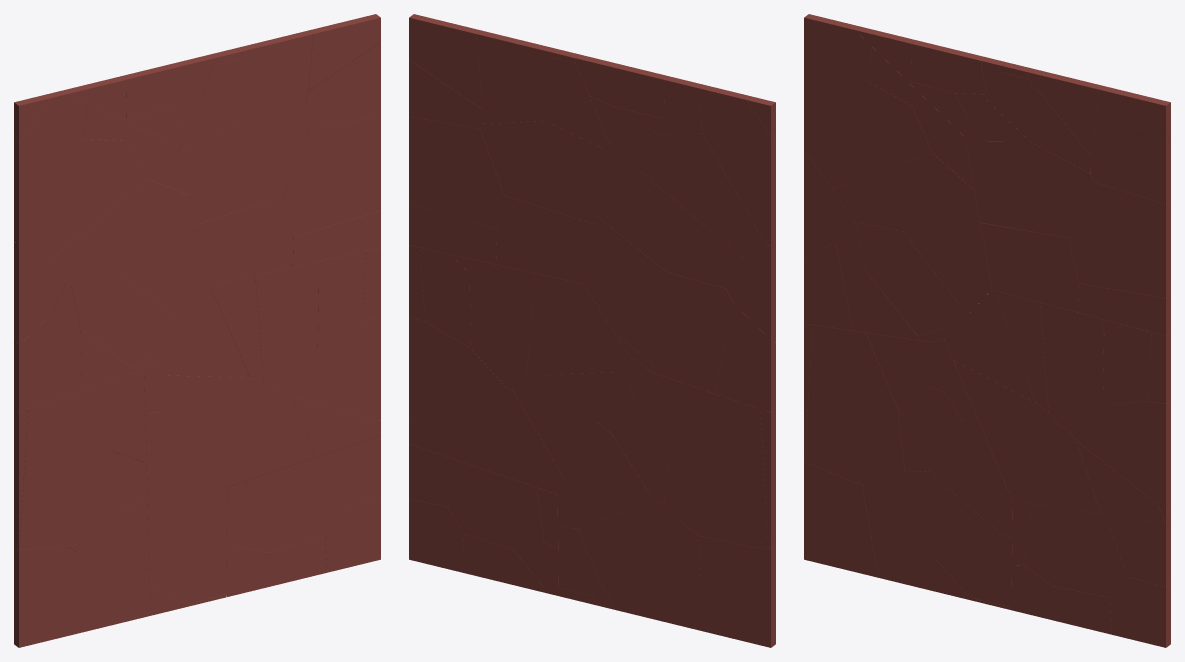
Rendered from wall02,03_Ax.fbx.
The picture shows the model from 3 angles, left to right: view 1: azimuth 30°, elevation 25°; view 2: azimuth 150°, elevation 25°; view 3: azimuth 330°, elevation 25°; orthographic projection.
Parts seen in each view (by area): view 1: wall02_A_cell.001_cell.007, wall02_A_cell.004_cell.005, wall02_A_cell.004_cell.004, wall02_A_cell.002_cell.001, wall02_A_cell.002_cell.002, wall02_A_cell.003_cell.002, wall02_A_cell.001_cell, wall02_A_cell.002_cell.008, wall02_A_cell_cell.011, wall02_A_cell.002_cell.005, wall02_A_cell_cell.007, wall02_A_cell.004_cell.002 (+42 smaller); view 2: wall02_A_cell.001_cell.007, wall02_A_cell.004_cell.005, wall02_A_cell.002_cell.002, wall02_A_cell.004_cell.004, wall02_A_cell.002_cell.001, wall02_A_cell.002_cell.008, wall02_A_cell_cell.007, wall02_A_cell.001_cell, wall02_A_cell_cell.003, wall02_A_cell.004_cell.002, wall02_A_cell_cell.011, wall02_A_cell.002_cell.005 (+42 smaller); view 3: wall02_A_cell.001_cell.007, wall02_A_cell.004_cell.004, wall02_A_cell.004_cell.005, wall02_A_cell.002_cell.001, wall02_A_cell.002_cell.002, wall02_A_cell.003_cell.002, wall02_A_cell_cell.011, wall02_A_cell.002_cell.005, wall02_A_cell_cell.007, wall02_A_cell.004_cell.002, wall02_A_cell.001_cell, wall02_A_cell.002_cell.008 (+42 smaller).
Part boxes in pixels (x1=…): wall02_A_cell.001_cell.007: x1=19, y1=391, x2=119, y2=549; wall02_A_cell.004_cell.005: x1=180, y1=119, x2=308, y2=224; wall02_A_cell.004_cell.004: x1=283, y1=116, x2=380, y2=237; wall02_A_cell.002_cell.001: x1=22, y1=139, x2=147, y2=262; wall02_A_cell.002_cell.002: x1=47, y1=178, x2=192, y2=284; wall02_A_cell.003_cell.002: x1=238, y1=456, x2=341, y2=552; wall02_A_cell.001_cell: x1=14, y1=546, x2=93, y2=647; wall02_A_cell.002_cell.008: x1=14, y1=89, x2=86, y2=242; wall02_A_cell_cell.011: x1=281, y1=315, x2=380, y2=419; wall02_A_cell.002_cell.005: x1=70, y1=271, x2=182, y2=368; wall02_A_cell_cell.007: x1=255, y1=262, x2=318, y2=389; wall02_A_cell.004_cell.002: x1=195, y1=197, x2=293, y2=285; wall02_A_cell.001_cell.007: x1=664, y1=392, x2=768, y2=548; wall02_A_cell.004_cell.005: x1=480, y1=121, x2=607, y2=223; wall02_A_cell.002_cell.002: x1=596, y1=171, x2=747, y2=288; wall02_A_cell.004_cell.004: x1=409, y1=116, x2=504, y2=229; wall02_A_cell.002_cell.001: x1=639, y1=133, x2=766, y2=261; wall02_A_cell.002_cell.008: x1=700, y1=90, x2=775, y2=245; wall02_A_cell_cell.007: x1=469, y1=259, x2=534, y2=390; wall02_A_cell.001_cell: x1=695, y1=546, x2=775, y2=647; wall02_A_cell_cell.003: x1=513, y1=372, x2=622, y2=479; wall02_A_cell.004_cell.002: x1=496, y1=195, x2=593, y2=283; wall02_A_cell_cell.011: x1=409, y1=316, x2=507, y2=420; wall02_A_cell.002_cell.005: x1=606, y1=272, x2=723, y2=362; wall02_A_cell.001_cell.007: x1=804, y1=325, x2=904, y2=484; wall02_A_cell.004_cell.004: x1=1069, y1=182, x2=1170, y2=298; wall02_A_cell.004_cell.005: x1=965, y1=141, x2=1093, y2=237; wall02_A_cell.002_cell.001: x1=810, y1=83, x2=932, y2=187; wall02_A_cell.002_cell.002: x1=832, y1=153, x2=977, y2=231; wall02_A_cell.003_cell.002: x1=1023, y1=504, x2=1126, y2=597; wall02_A_cell_cell.011: x1=1067, y1=401, x2=1170, y2=508; wall02_A_cell.002_cell.005: x1=855, y1=222, x2=967, y2=335; wall02_A_cell_cell.007: x1=1040, y1=303, x2=1104, y2=427; wall02_A_cell.004_cell.002: x1=980, y1=222, x2=1078, y2=312; wall02_A_cell.001_cell: x1=804, y1=462, x2=878, y2=577; wall02_A_cell.002_cell.008: x1=804, y1=20, x2=871, y2=157.
Size of the model in its own units: 854 by 1222 by 20.23.
